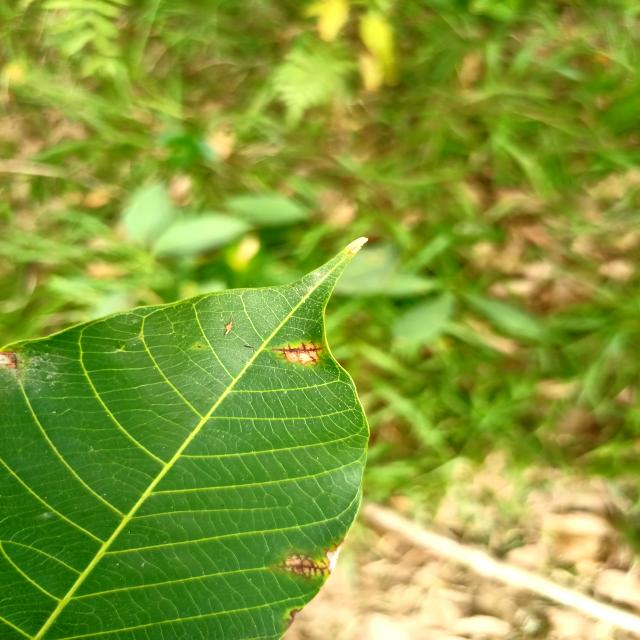Corynespora: (273, 551, 331, 579), (271, 341, 323, 366)
Leaf-Blight: (327, 543, 342, 574), (347, 237, 369, 253), (0, 351, 18, 369)
